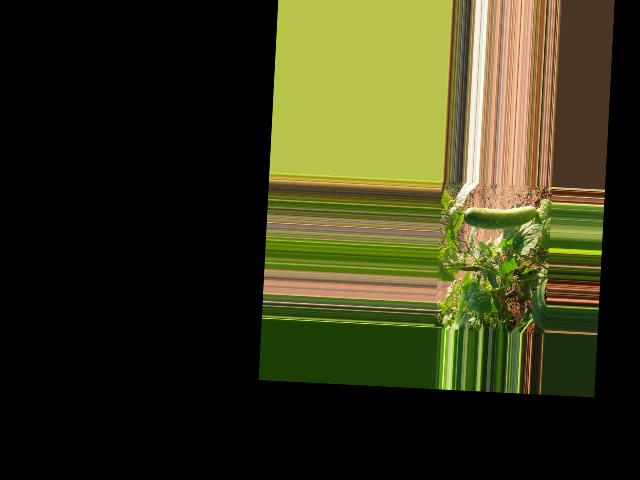cucumber: (463, 202, 537, 231)
